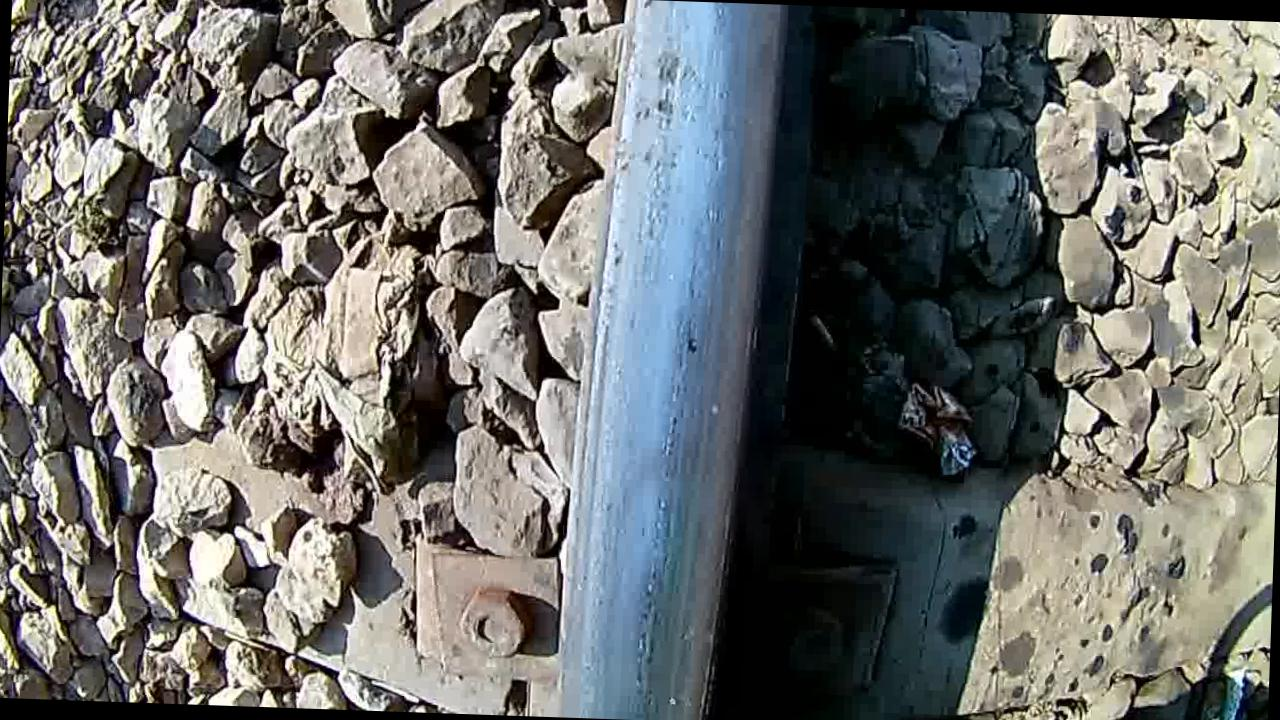crack: (572, 0, 783, 720)
